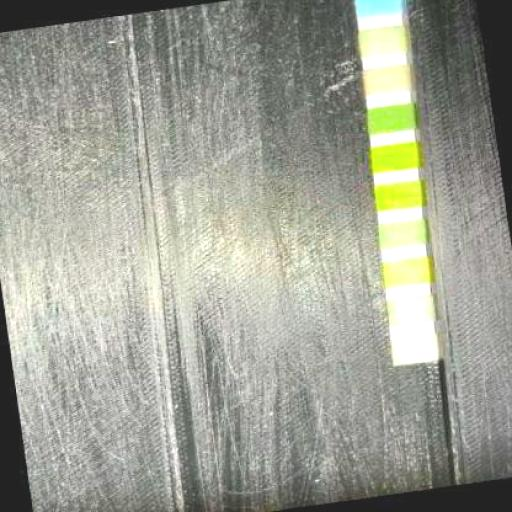Bilirubin: (360, 32, 402, 50)
Blood: (372, 149, 414, 167)
Glucose: (358, 0, 402, 12)
Ketone: (365, 71, 405, 90)
Leukocytes: (393, 341, 433, 361)
Nitrite: (389, 302, 431, 322)
Protein: (379, 226, 422, 244)
SpGravity: (368, 109, 410, 129)
Urobilinogen: (384, 264, 426, 284)
pH: (376, 188, 418, 206)
strip: (354, 1, 437, 366)
